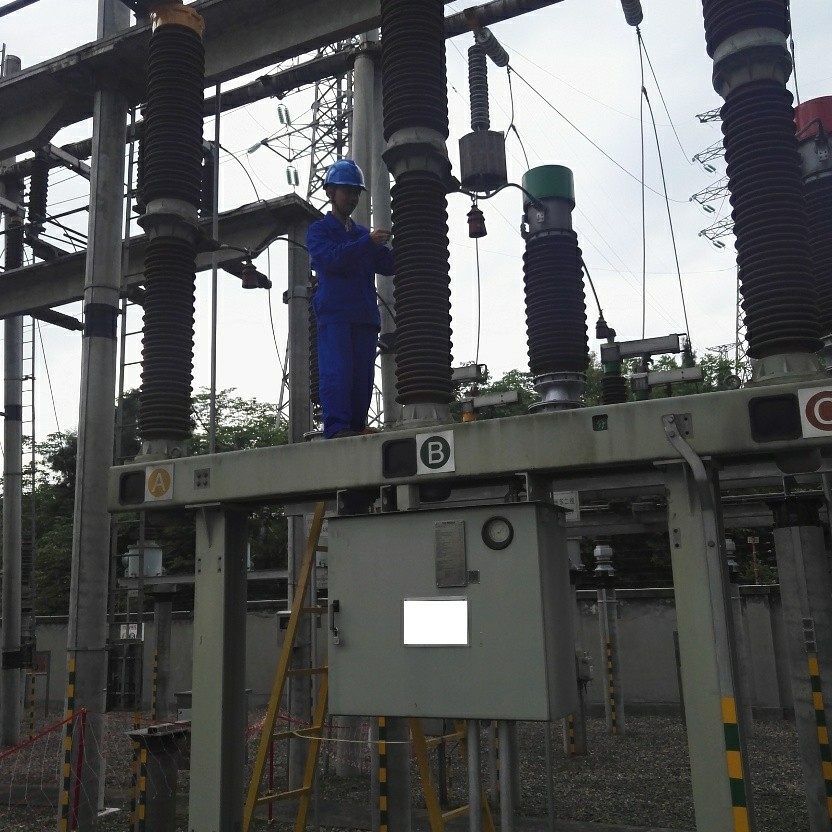hat: (320, 155, 368, 216)
